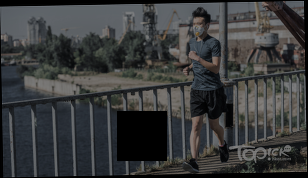with_mask: (191, 18, 206, 36)
